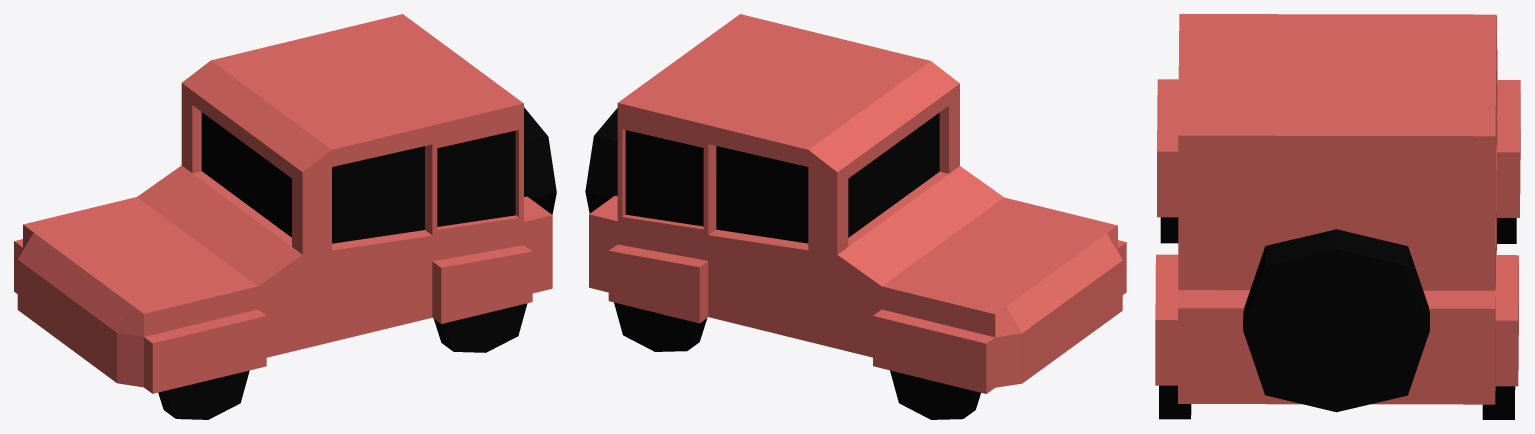
Rendered from car2.obj.
3 views of the same model, side by side, from view 1: azimuth 30°, elevation 25°; view 2: azimuth 150°, elevation 25°; view 3: azimuth 270°, elevation 25° (orthographic). The views are drawn at different scales.
Parts seen in each view (by area): view 1: Plane.001; view 2: Plane.001; view 3: Plane.001.
Part boxes in pixels (box(x1,y1,x2,y2)): Plane.001: box(14, 14, 556, 419); Plane.001: box(585, 14, 1126, 419); Plane.001: box(1155, 14, 1520, 419).
Size of the model in its own units: 4.29 by 2.11 by 2.3.
1 material, 1 textured.
